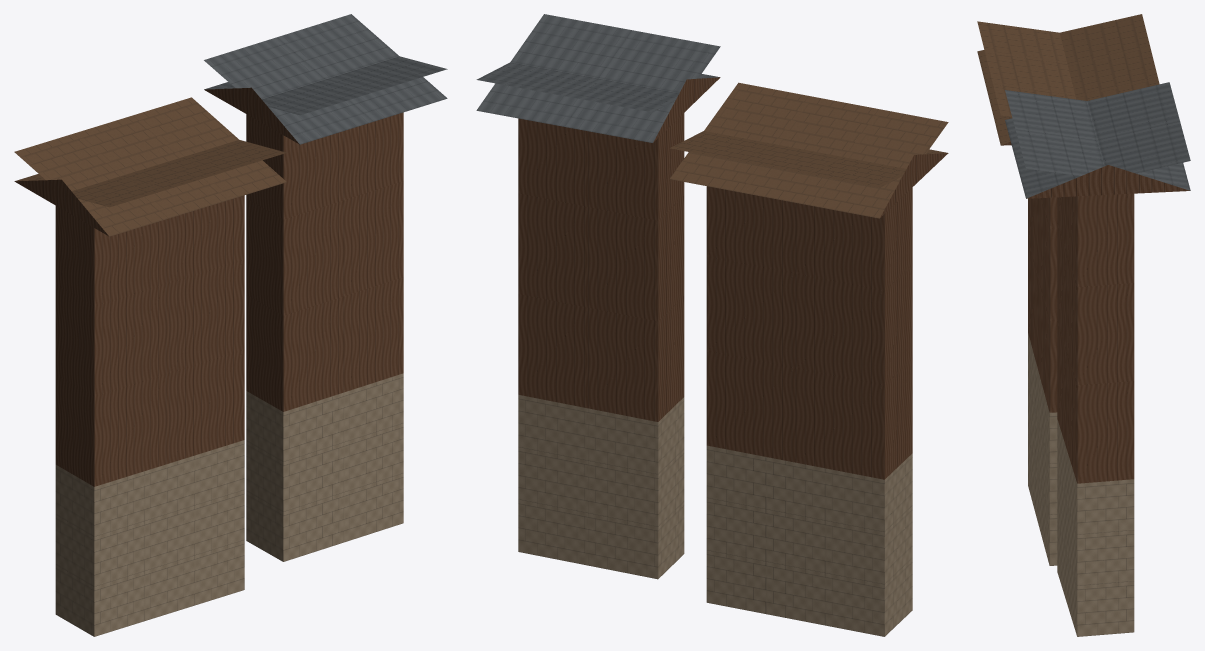
File: bld_c-1_1_535.gltf
3 views of the same model, side by side, from view 1: azimuth 30°, elevation 25°; view 2: azimuth 150°, elevation 25°; view 3: azimuth 270°, elevation 25° (orthographic). The views are drawn at different scales.
Parts seen in each view (by area): view 1: bld_c-1_1_535; view 2: bld_c-1_1_535; view 3: bld_c-1_1_535.
Boxes of the visible parts, x1=… form: bld_c-1_1_535: x1=14, y1=14, x2=447, y2=636; bld_c-1_1_535: x1=476, y1=14, x2=948, y2=636; bld_c-1_1_535: x1=977, y1=14, x2=1190, y2=636.
Bounding box in the file's own units: 13.41 × 16.4 × 6.44.
Materials: 5 (5 with a texture image).
